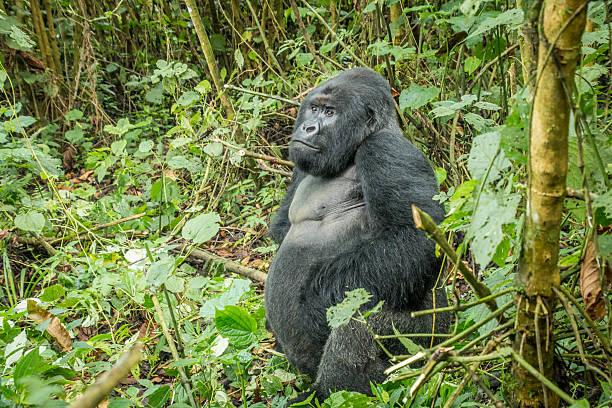goriile_montagne: (216, 35, 491, 408)
